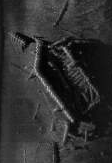ship: (30, 33, 105, 127)
